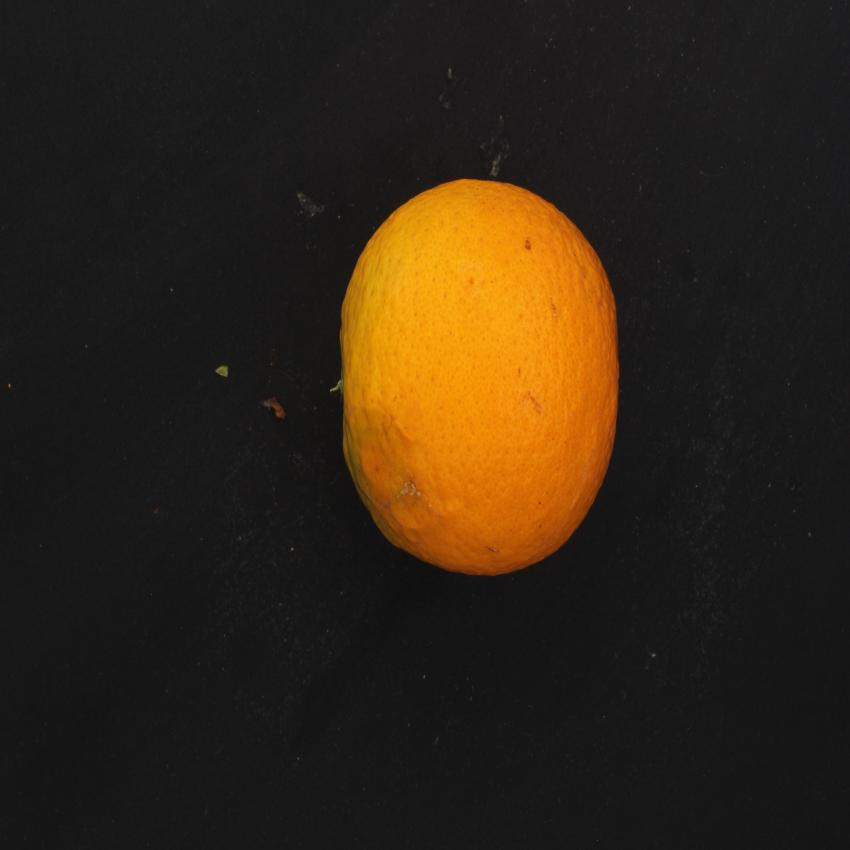Buen estado: (331, 168, 628, 593)
